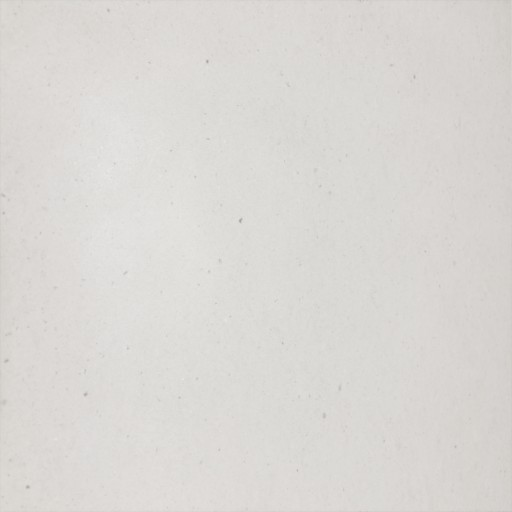lego: (224, 224, 287, 292)
